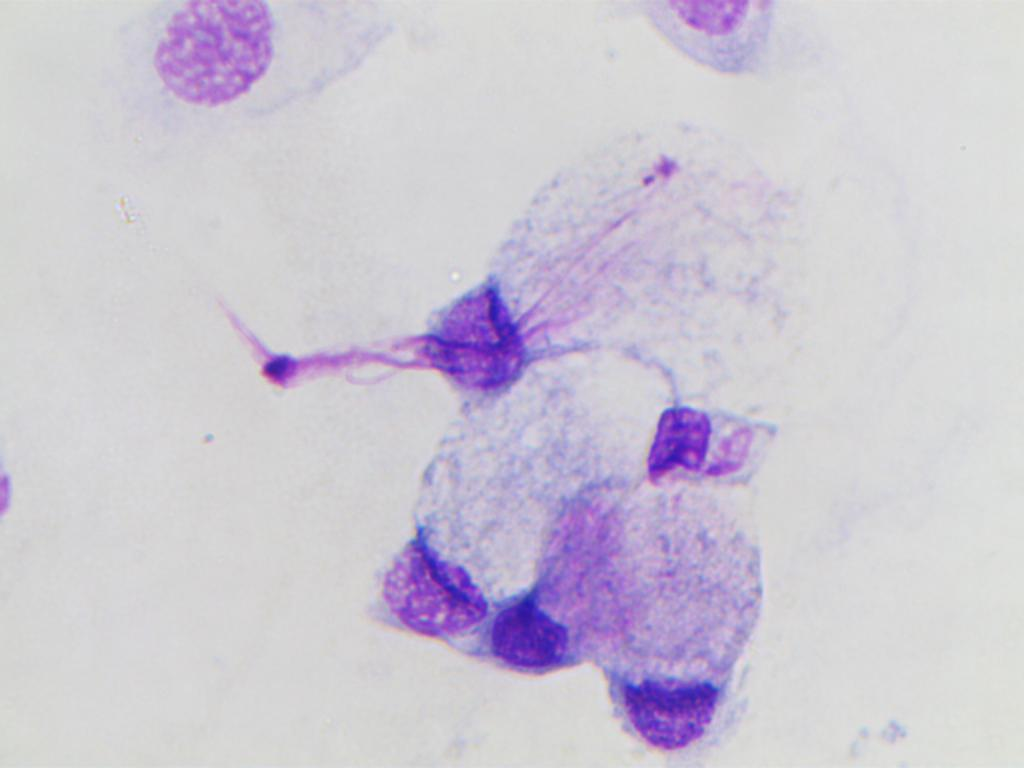epithelial: (127, 0, 289, 111), (624, 0, 811, 76)
goblet_cell: (424, 180, 603, 398), (604, 512, 755, 749), (377, 417, 515, 639), (490, 490, 605, 676)
